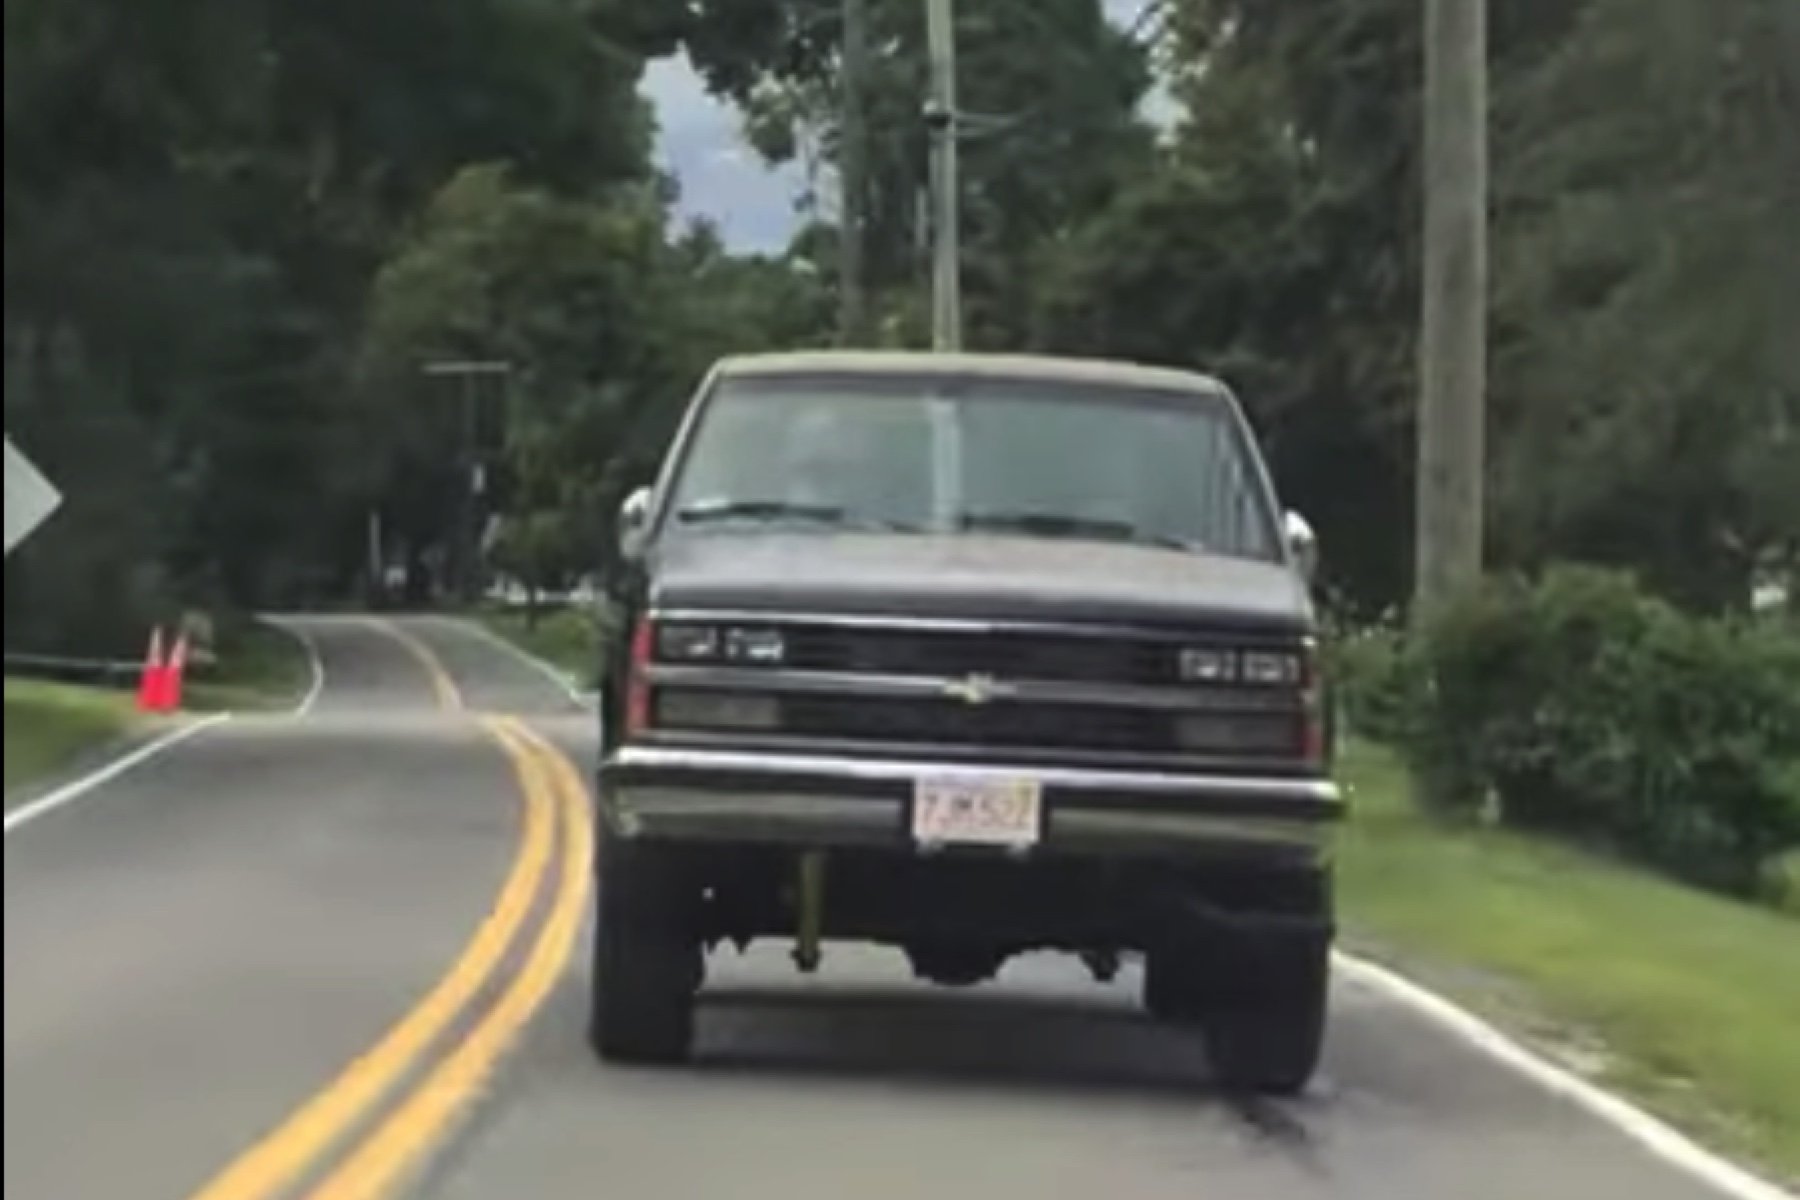Car: (588, 350, 1345, 1096)
